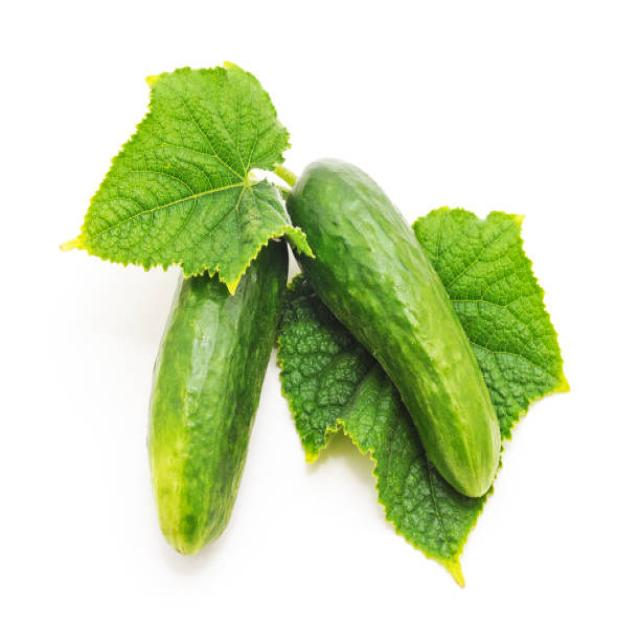cucumber: (286, 159, 502, 495), (148, 228, 290, 558)
